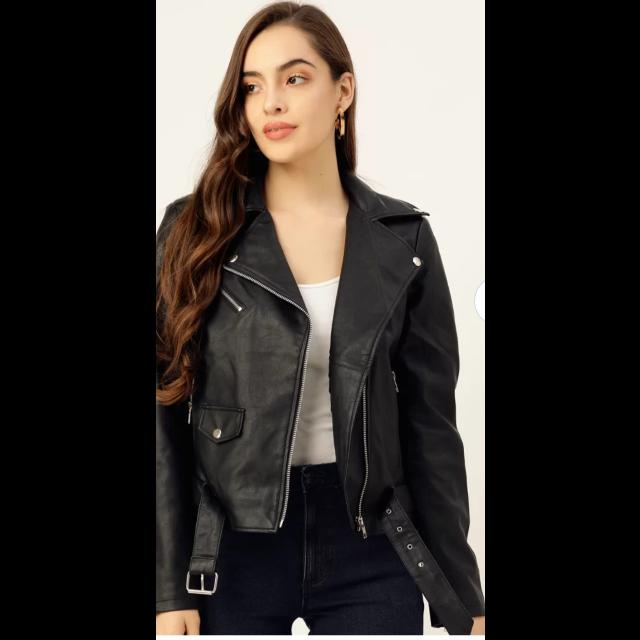ear ring: (338, 115, 348, 142)
jacket: (155, 170, 463, 544)
